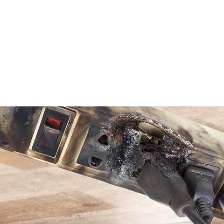three_eye_plug: (0, 102, 224, 222)
